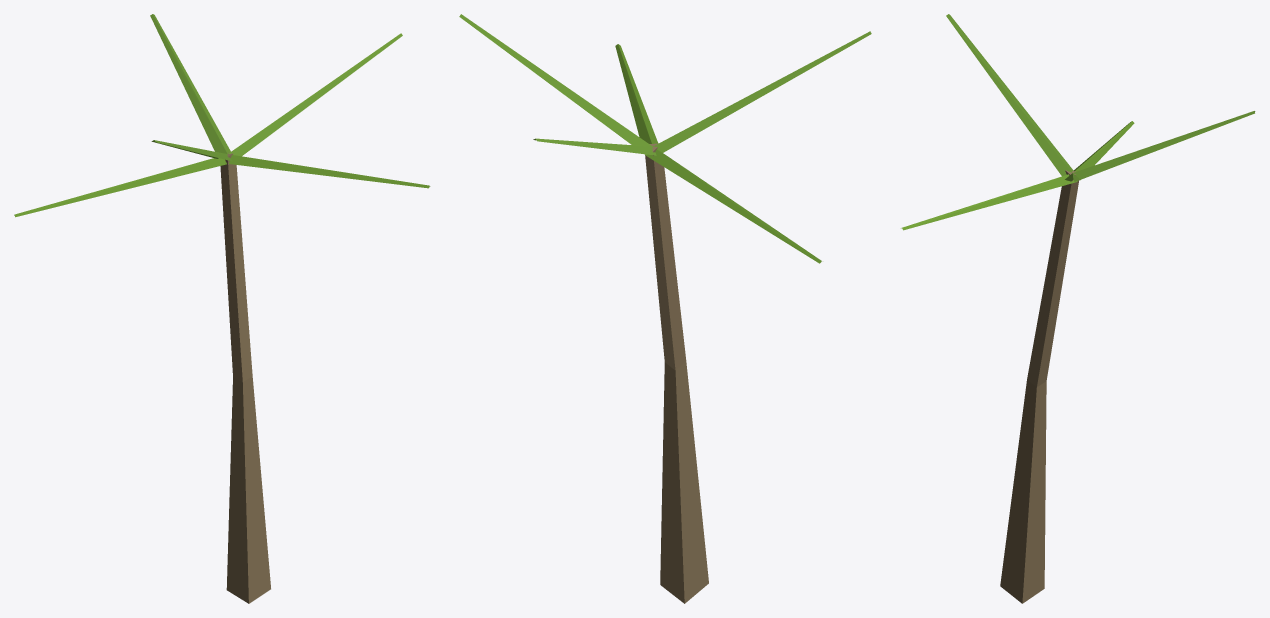
File: palm_a_lod2.glb
The picture shows the model from 3 angles, left to right: view 1: azimuth 30°, elevation 25°; view 2: azimuth 150°, elevation 25°; view 3: azimuth 270°, elevation 25°; orthographic projection. The views are drawn at different scales.
Visible parts, largest first — view 1: palm; view 2: palm; view 3: palm.
Boxes of the visible parts, box(x1,y1,x2,y2) form: palm: box(14, 14, 430, 603); palm: box(459, 14, 871, 603); palm: box(901, 14, 1255, 603).
Bounding box in the file's own units: 8.05 × 11.06 × 6.91.
